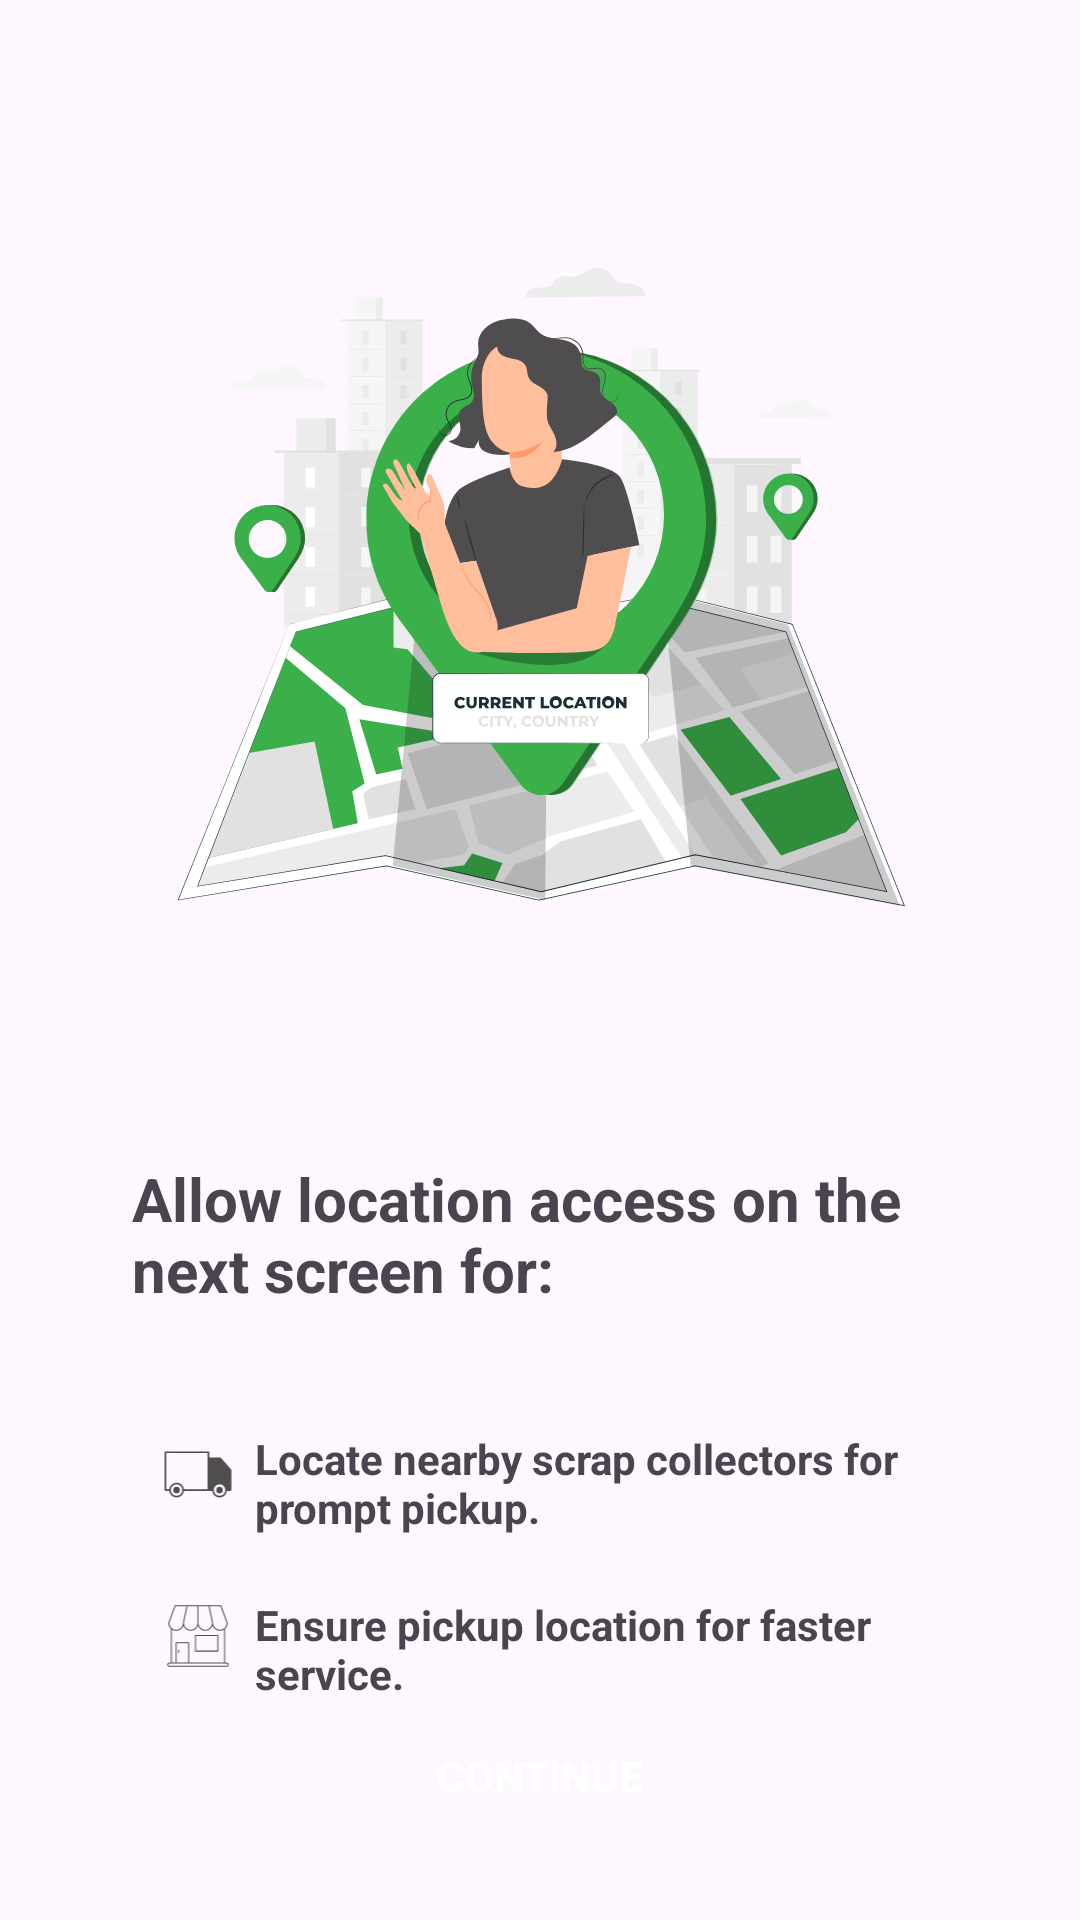

Where icons sit on this 1080x1920 app screen, as (x1, y1, x2, y2):
shop: (167, 1605, 229, 1667)
